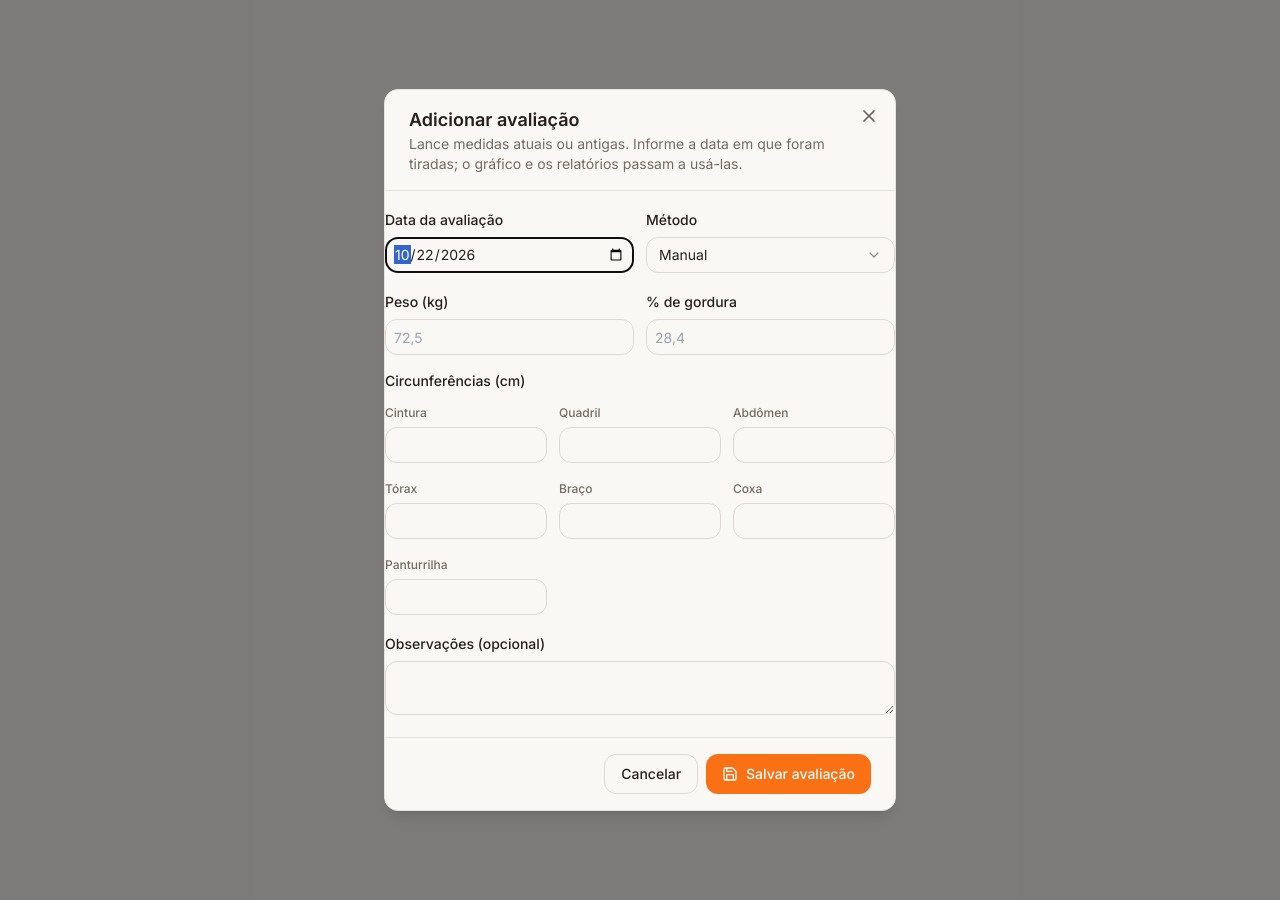
Test: AssessmentDialog — medidas antigas › sem nenhum dado: avisa e não grava
Click the button "Salvar avaliação" at (789, 774), box [706, 754, 871, 794]
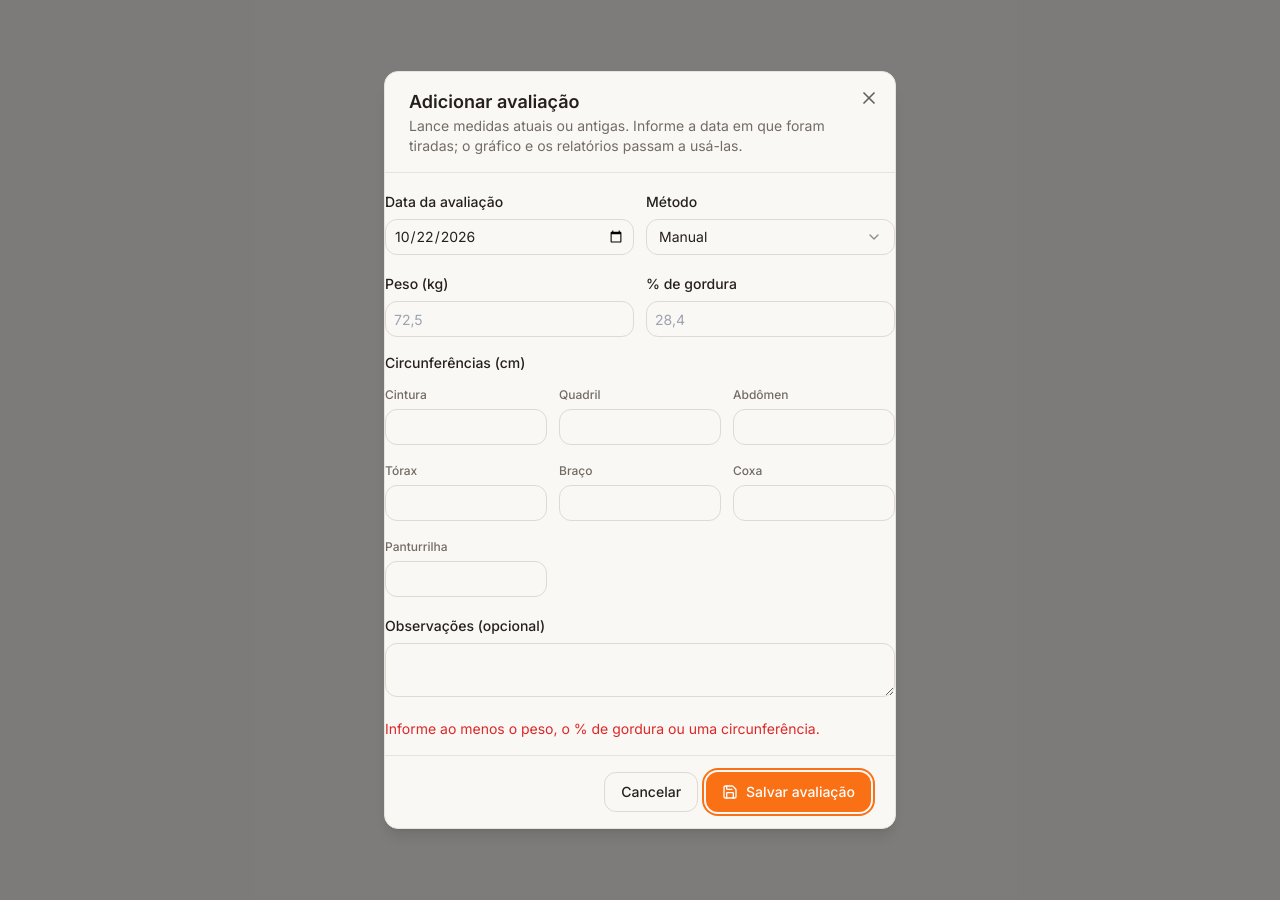
Now the message shows "ao menos o peso", box [385, 720, 820, 737]
